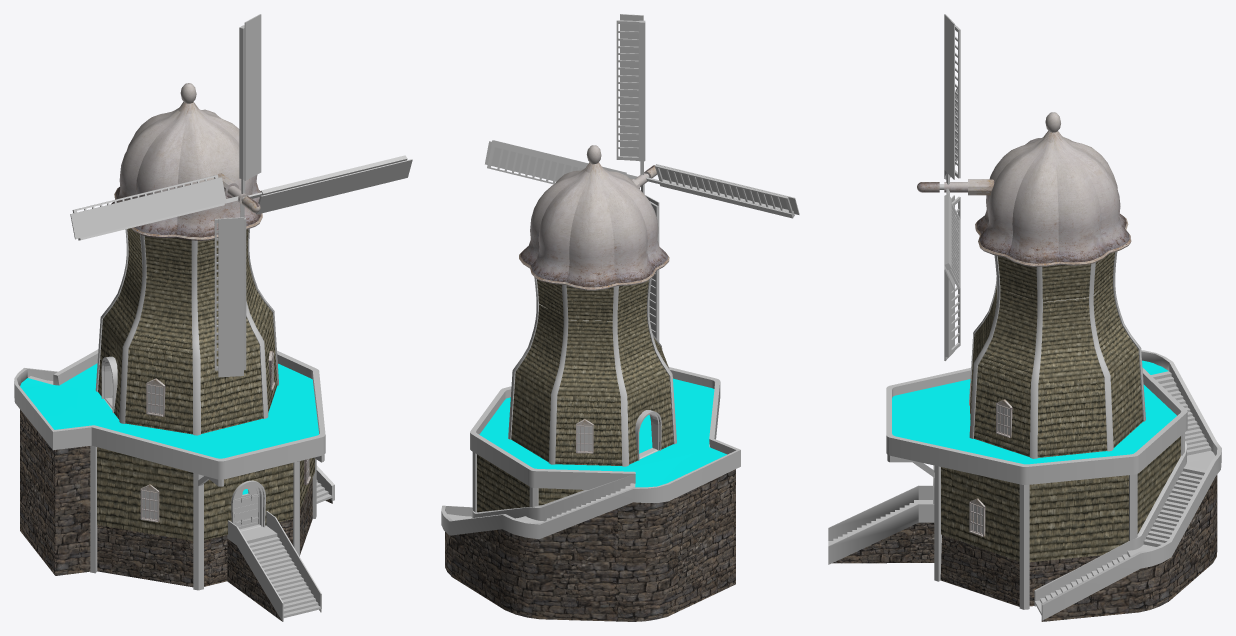
Rendered from port_windmill_village.FBX.
3 renders of one model, left to right at view 1: azimuth 30°, elevation 25°; view 2: azimuth 150°, elevation 25°; view 3: azimuth 270°, elevation 25°, orthographic. The views are drawn at different scales.
Visible parts, largest first — view 1: port_windmill_village_exterior, port_windmill_village_blades, port_windmill_village_dome, port_windmill_village_decofloor, port_windmill_village_door; view 2: port_windmill_village_exterior, port_windmill_village_dome, port_windmill_village_blades, port_windmill_village_decofloor; view 3: port_windmill_village_exterior, port_windmill_village_dome, port_windmill_village_decofloor, port_windmill_village_blades.
Part boxes in pixels (x1=…): port_windmill_village_exterior: x1=14, y1=228, x2=334, y2=621; port_windmill_village_blades: x1=70, y1=14, x2=412, y2=377; port_windmill_village_dome: x1=111, y1=83, x2=262, y2=240; port_windmill_village_decofloor: x1=20, y1=363, x2=319, y2=494; port_windmill_village_door: x1=234, y1=484, x2=259, y2=529; port_windmill_village_exterior: x1=441, y1=277, x2=740, y2=621; port_windmill_village_dome: x1=519, y1=145, x2=669, y2=290; port_windmill_village_blades: x1=485, y1=14, x2=799, y2=341; port_windmill_village_decofloor: x1=479, y1=378, x2=726, y2=487; port_windmill_village_exterior: x1=828, y1=251, x2=1221, y2=621; port_windmill_village_dome: x1=975, y1=112, x2=1131, y2=266; port_windmill_village_decofloor: x1=892, y1=360, x2=1176, y2=464; port_windmill_village_blades: x1=917, y1=14, x2=994, y2=360.
Size of what is drawn, in the model's own units: 1971 by 3079 by 2020.
